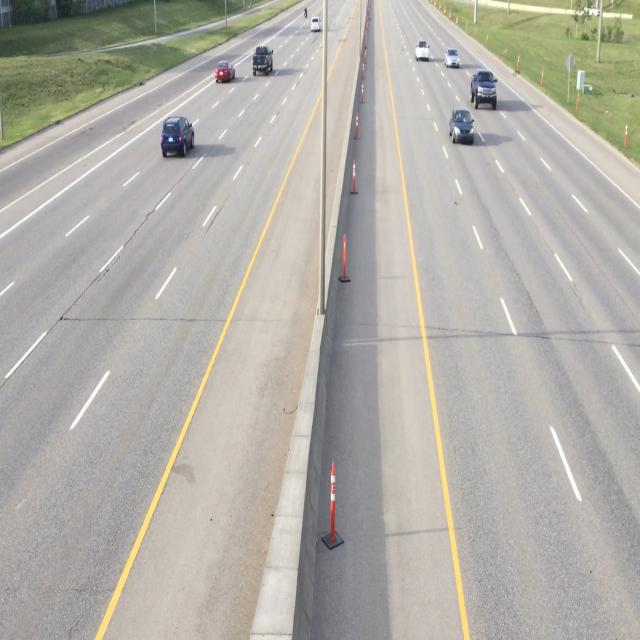Car: (160, 115, 193, 159), (469, 70, 498, 111), (448, 107, 475, 144), (250, 42, 274, 78), (213, 59, 234, 87), (442, 46, 460, 70), (416, 38, 430, 61)
